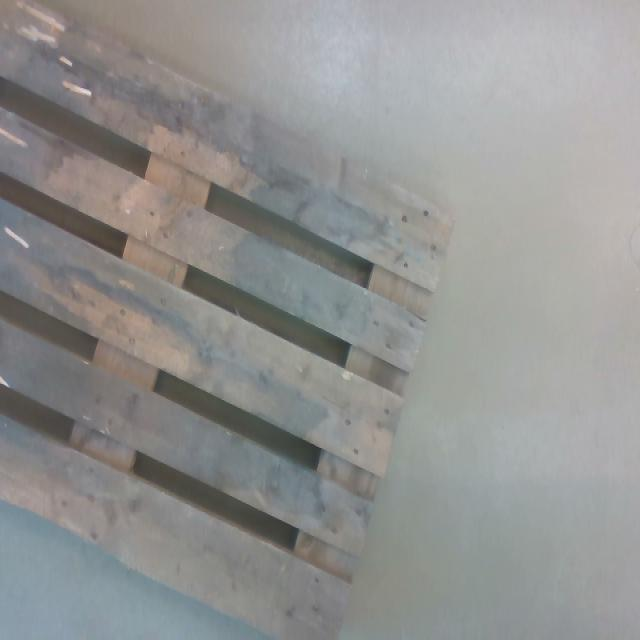pallet: (0, 0, 456, 640)
